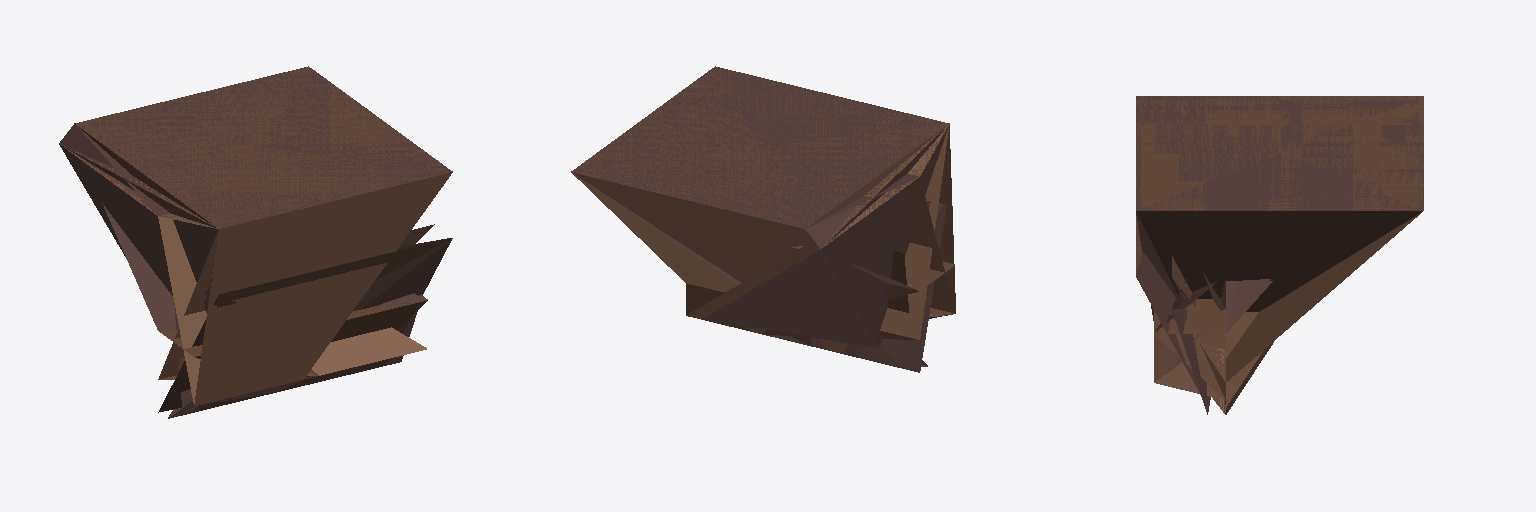
The picture shows the model from 3 angles: view 1: azimuth 30°, elevation 25°; view 2: azimuth 150°, elevation 25°; view 3: azimuth 270°, elevation 25°; orthographic projection.
Bounding box in the file's own units: 16 × 13 × 16.
Materials: 1 (1 with a texture image).